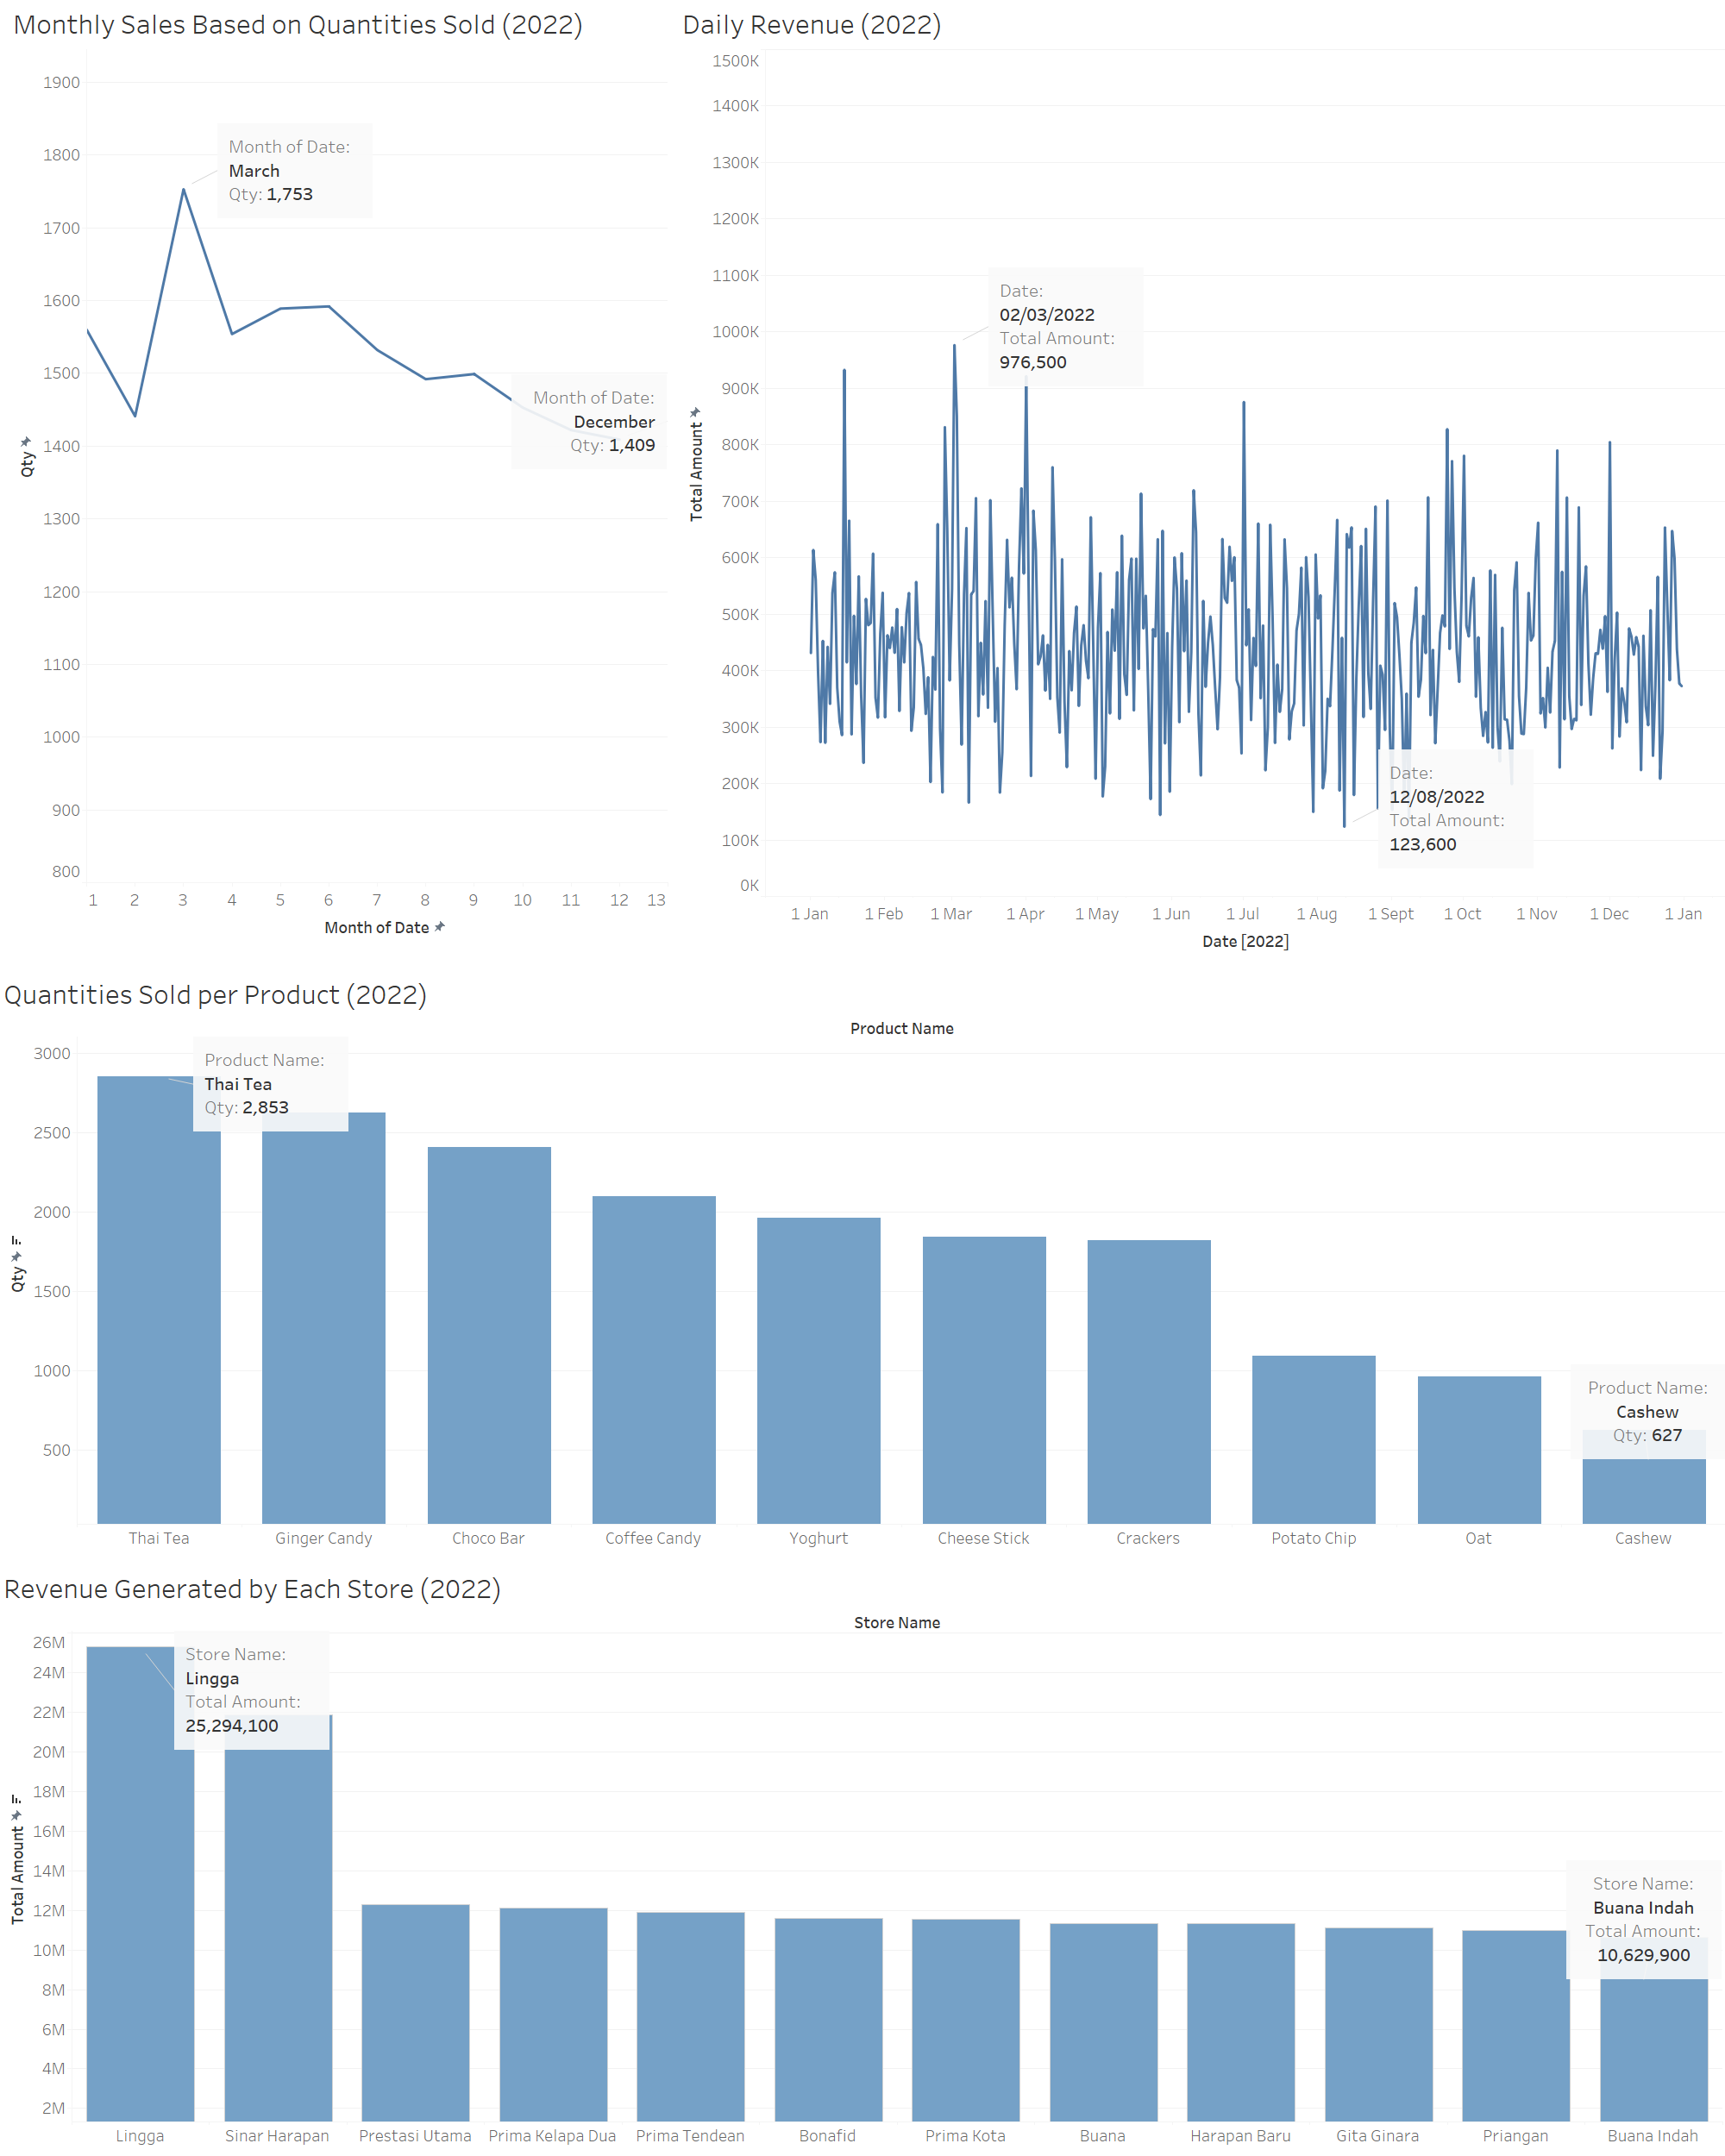

What the dashboard file says about the page in this screenshot:
{"tool":"tableau","page":{"name":"Dashboard 1","canvas":[2000,2500],"ordinal":0},"visuals":[{"type":"worksheet","title":"Sheet 1","mark":"Automatic","rows":["Qty"],"cols":["Date"],"box":[11,0,763,1094]},{"type":"worksheet","title":"Sheet 2","mark":"Automatic","rows":["TotalAmount"],"cols":["Date"],"box":[787,0,1215,1110]},{"type":"worksheet","title":"Sheet 3","mark":"Automatic","rows":["Qty"],"cols":["Product Name"],"box":[0,1125,2002,671]},{"type":"worksheet","title":"Sheet 4","mark":"Automatic","rows":["TotalAmount"],"cols":["StoreName"],"box":[0,1814,1997,675]}]}

Visuals, with their boxes in screenshot pixels (x1, y1, x2, y2), scaled from the page's 2000x2500 canvas onto the 1725x2156 screenshot:
"Sheet 1" worksheet: (9, 0, 668, 943)
"Sheet 2" worksheet: (679, 0, 1724, 957)
"Sheet 3" worksheet: (0, 970, 1724, 1549)
"Sheet 4" worksheet: (0, 1564, 1722, 2147)
